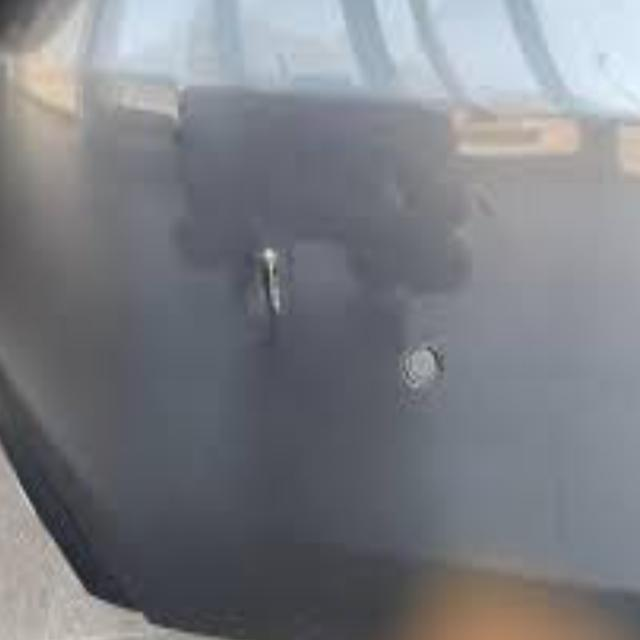dents: (388, 335, 485, 440), (240, 226, 305, 334)
